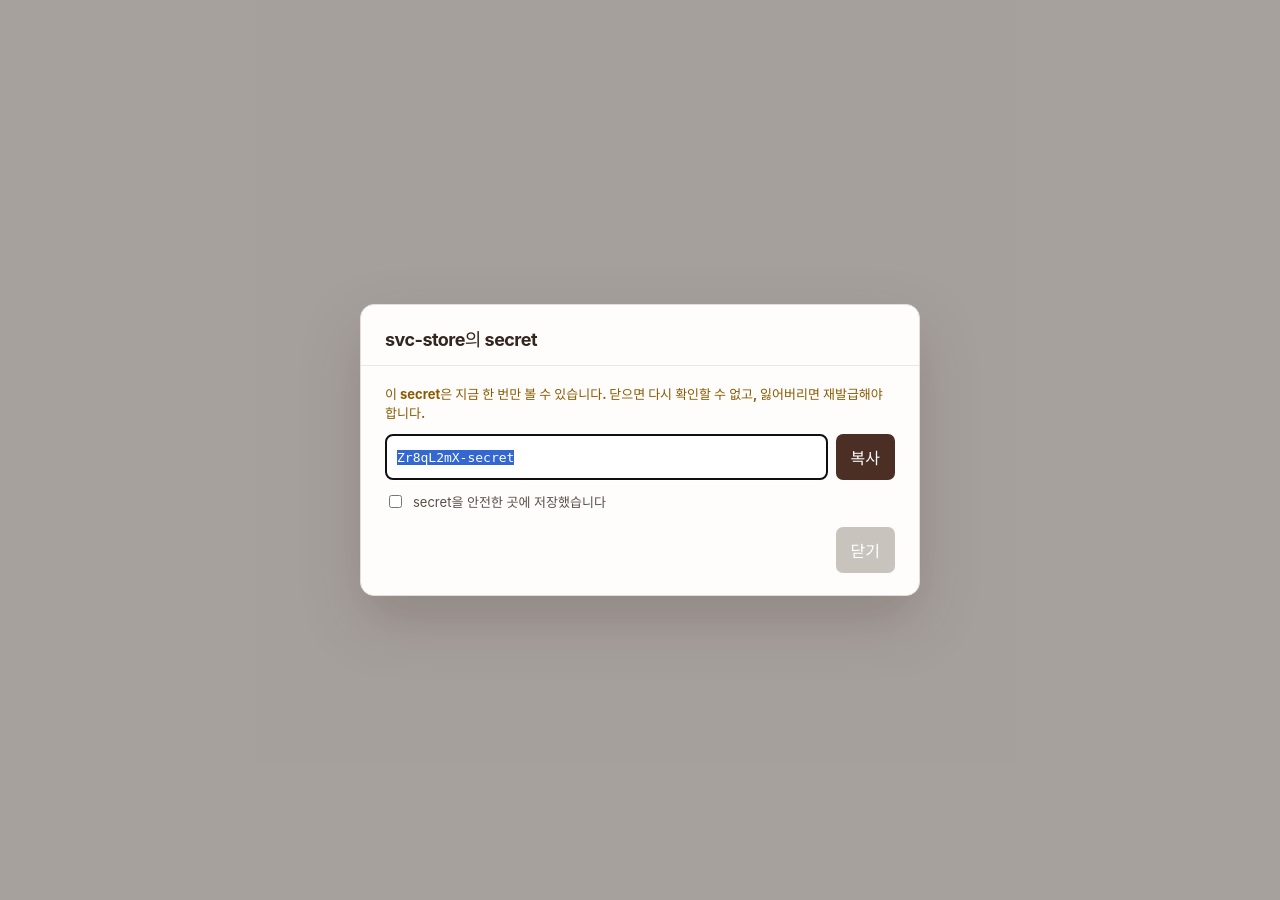
SecretReveal › 클립보드를 쓸 수 없으면 직접 복사하라고 안내한다
Click the button "복사" at (865, 457), box [836, 434, 895, 480]
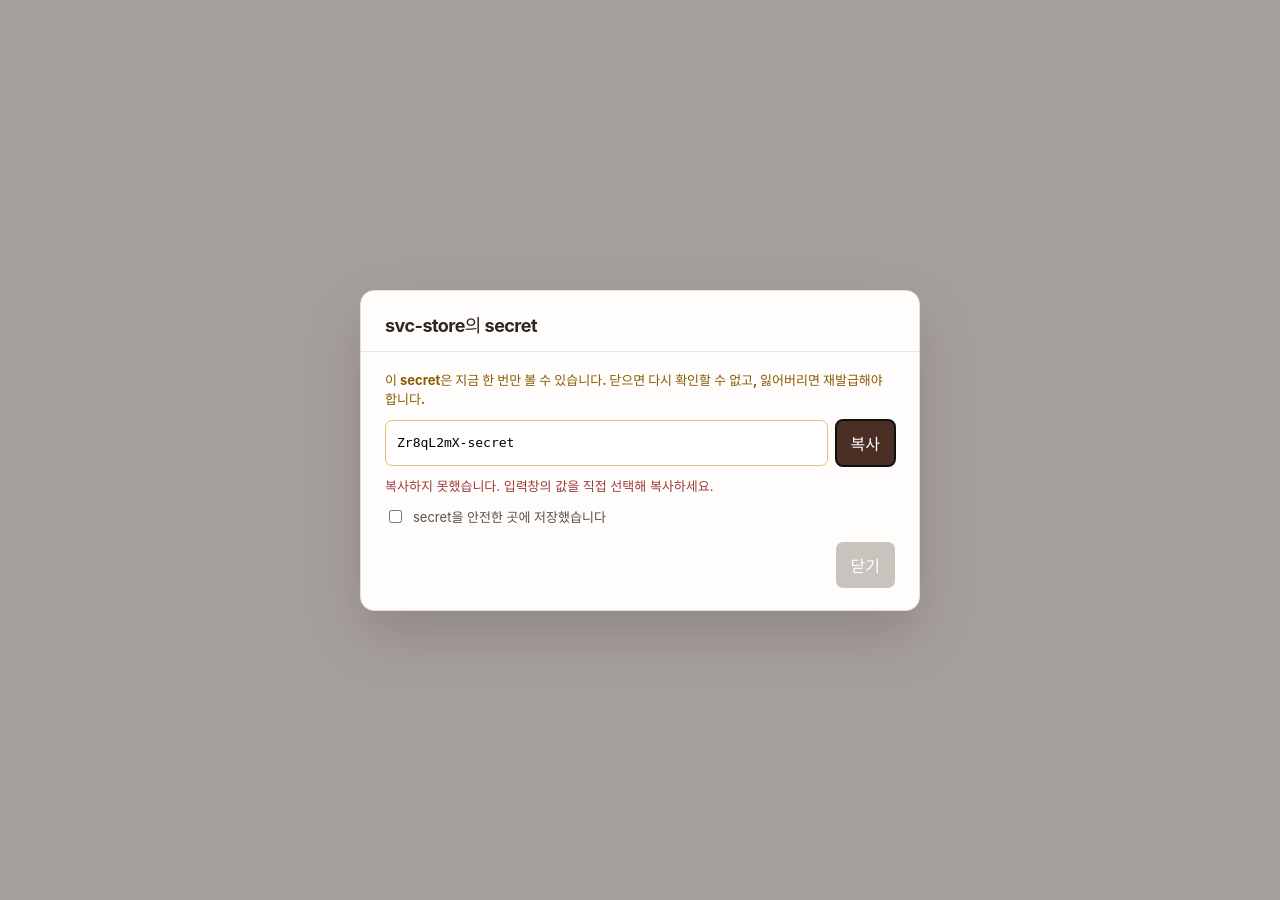
Expected: the text "복사하지 못했습니다. 입력창의 값을 직접 선택해 복사하세요." is shown, [385, 478, 713, 494]
